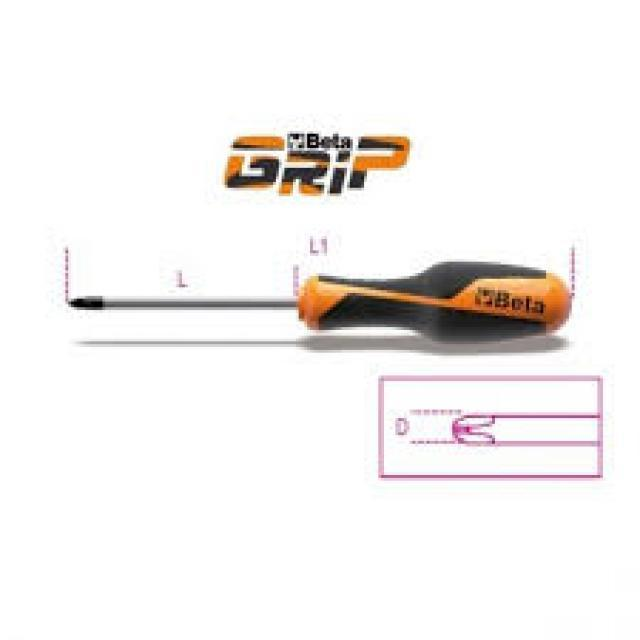screwdriver: (66, 253, 584, 356)
